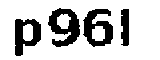6: (83, 8, 115, 50)
9: (44, 7, 81, 52)
l: (117, 6, 136, 52)
p: (9, 17, 44, 60)
